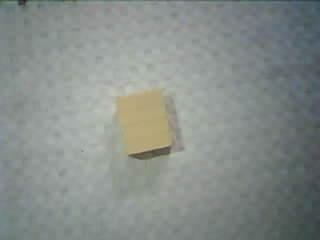lego: (113, 88, 172, 160)
